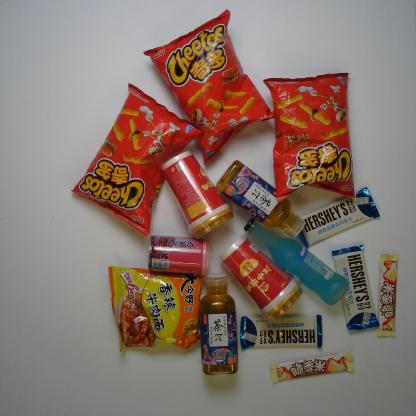Alcohol: (244, 217, 350, 306)
Canned Food: (147, 232, 209, 278)
Chocolate: (296, 186, 382, 248), (332, 244, 380, 332), (239, 314, 323, 349), (270, 352, 356, 384), (376, 254, 400, 338)
Drink: (215, 160, 305, 239), (199, 274, 239, 374)
Instant Drink: (218, 234, 304, 322), (161, 151, 234, 239)
Instant Noodles: (108, 264, 202, 352)
Puffed Food: (70, 80, 204, 235), (143, 10, 274, 164), (262, 72, 357, 202)
